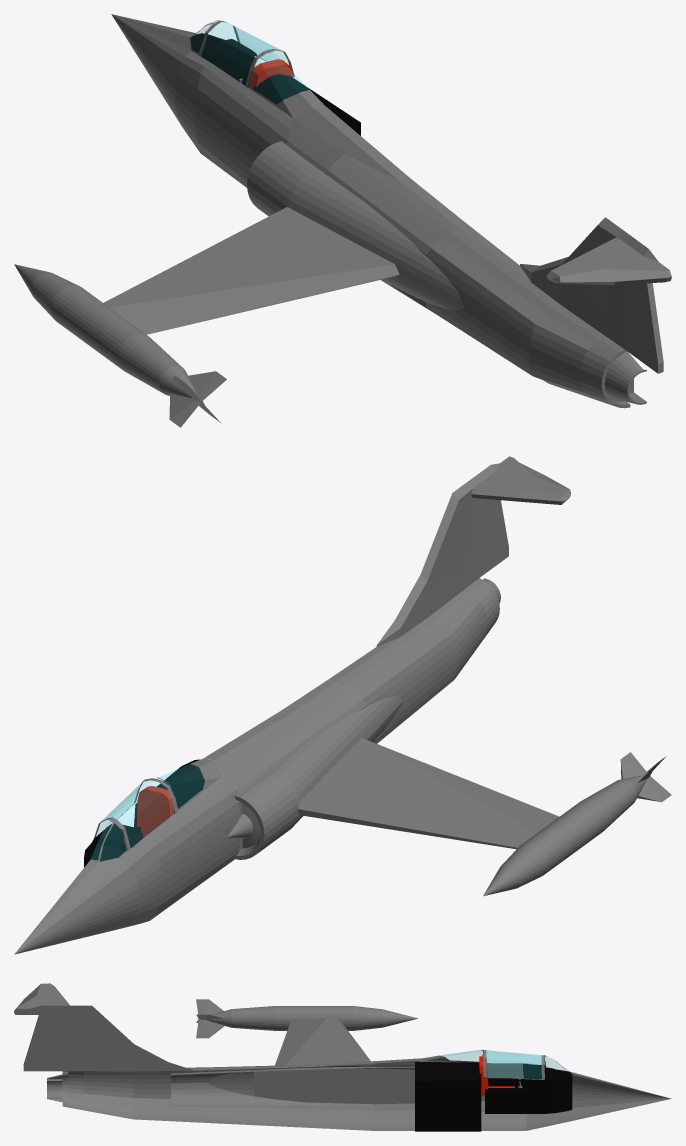
3 renders of one model, top to bottom at view 1: azimuth 30°, elevation 25°; view 2: azimuth 150°, elevation 25°; view 3: azimuth 270°, elevation 25°, orthographic. The views are drawn at different scales.
Parts seen in each view (by area): view 1: CF104, door_glass, can_glass, console, back, can_metal, seat; view 2: CF104, door_glass, can_glass, seat, console, back, can_metal; view 3: CF104, back, console, door_glass, cock, can_glass, seat, door_metal, can_metal.
Boxes of the visible parts, bbox=[...] form: CF104: bbox=[14, 14, 671, 427]; door_glass: bbox=[201, 22, 288, 84]; can_glass: bbox=[191, 21, 309, 103]; console: bbox=[190, 33, 257, 87]; back: bbox=[253, 74, 360, 135]; can_metal: bbox=[190, 20, 325, 118]; seat: bbox=[250, 59, 293, 88]; CF104: bbox=[14, 456, 671, 954]; door_glass: bbox=[96, 780, 174, 847]; can_glass: bbox=[91, 764, 204, 860]; seat: bbox=[136, 786, 174, 839]; console: bbox=[84, 823, 143, 867]; back: bbox=[134, 759, 204, 826]; can_metal: bbox=[90, 758, 220, 862]; CF104: bbox=[14, 983, 671, 1130]; back: bbox=[415, 1062, 481, 1131]; console: bbox=[485, 1064, 572, 1113]; door_glass: bbox=[486, 1050, 541, 1078]; cock: bbox=[420, 1060, 571, 1107]; can_glass: bbox=[439, 1050, 567, 1070]; seat: bbox=[479, 1056, 514, 1095]; door_metal: bbox=[483, 1050, 544, 1079]; can_metal: bbox=[420, 1049, 570, 1072].
Size of the model in its own units: 8.67 by 4.83 by 22.96.
